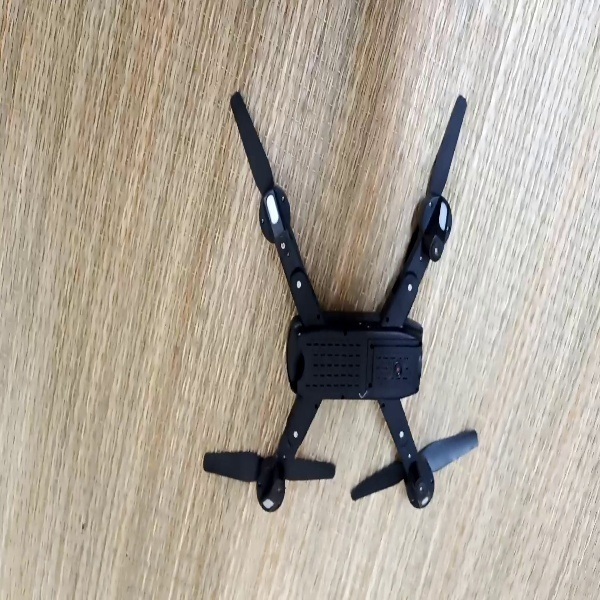drone: (193, 83, 483, 512)
